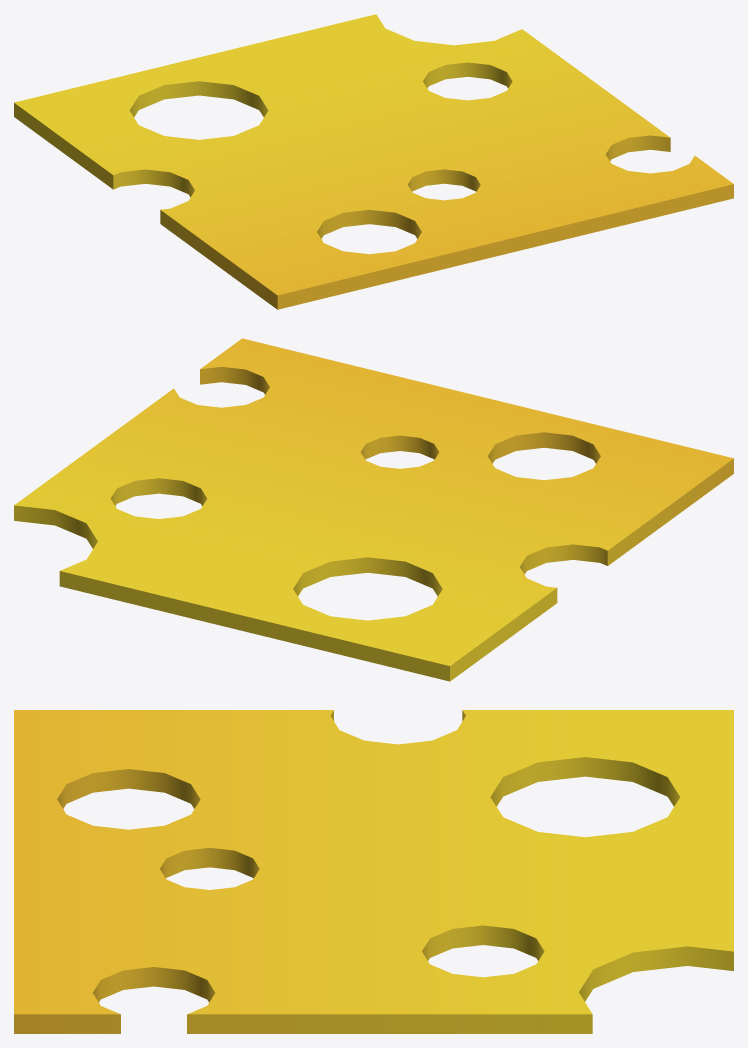
Rendered from Сheese.001.fbx.
3 renders of one model, top to bottom at view 1: azimuth 30°, elevation 25°; view 2: azimuth 150°, elevation 25°; view 3: azimuth 270°, elevation 25°, orthographic. The views are drawn at different scales.
Visible parts, largest first — view 1: Сheese.001; view 2: Сheese.001; view 3: Сheese.001.
Part boxes in pixels (bbox=[...]): Сheese.001: bbox=[14, 14, 733, 309]; Сheese.001: bbox=[14, 338, 733, 681]; Сheese.001: bbox=[14, 710, 733, 1033].
Size of the model in its own units: 82.96 by 82.96 by 2.49.
